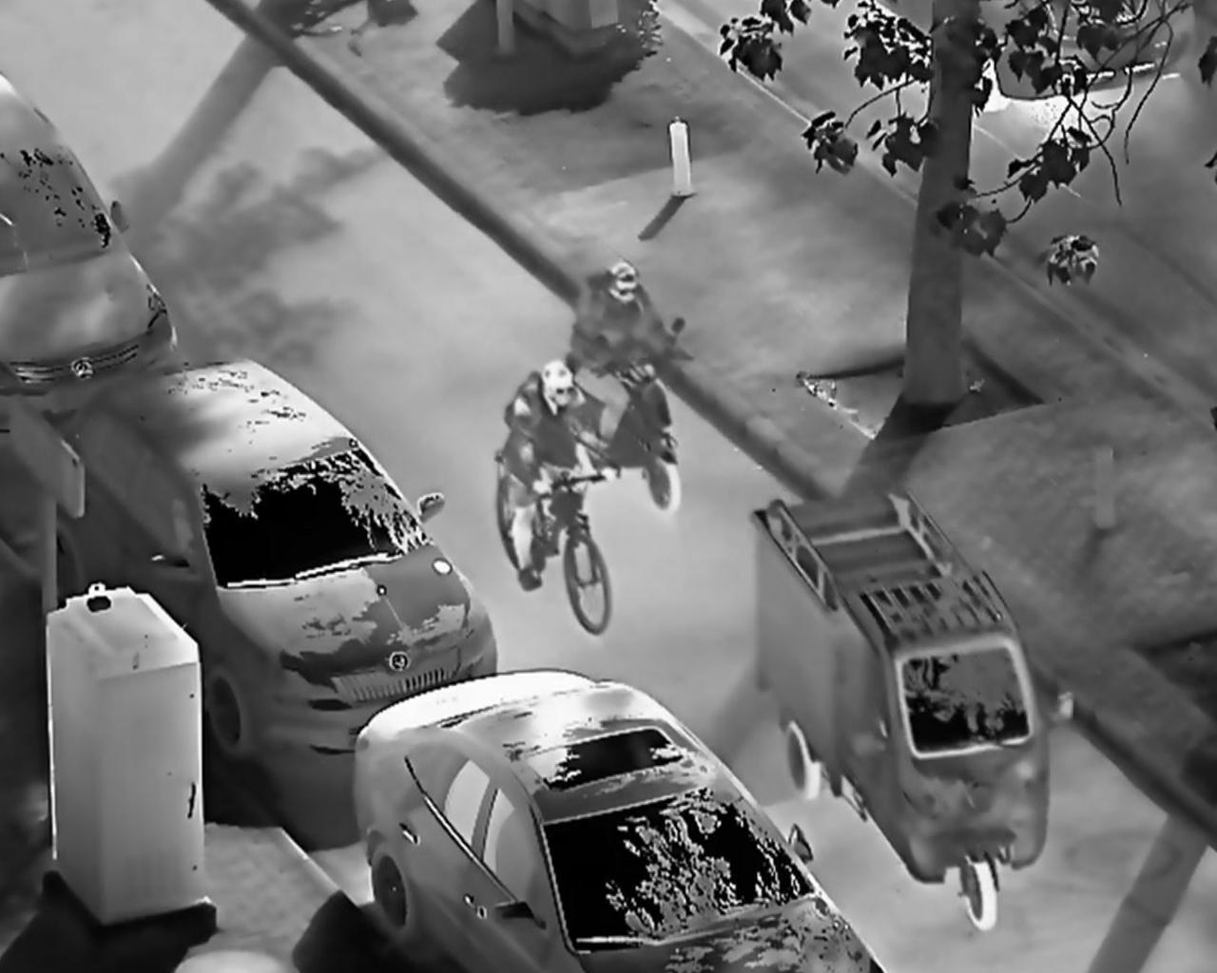person: (496, 358, 600, 596), (569, 258, 685, 454)
